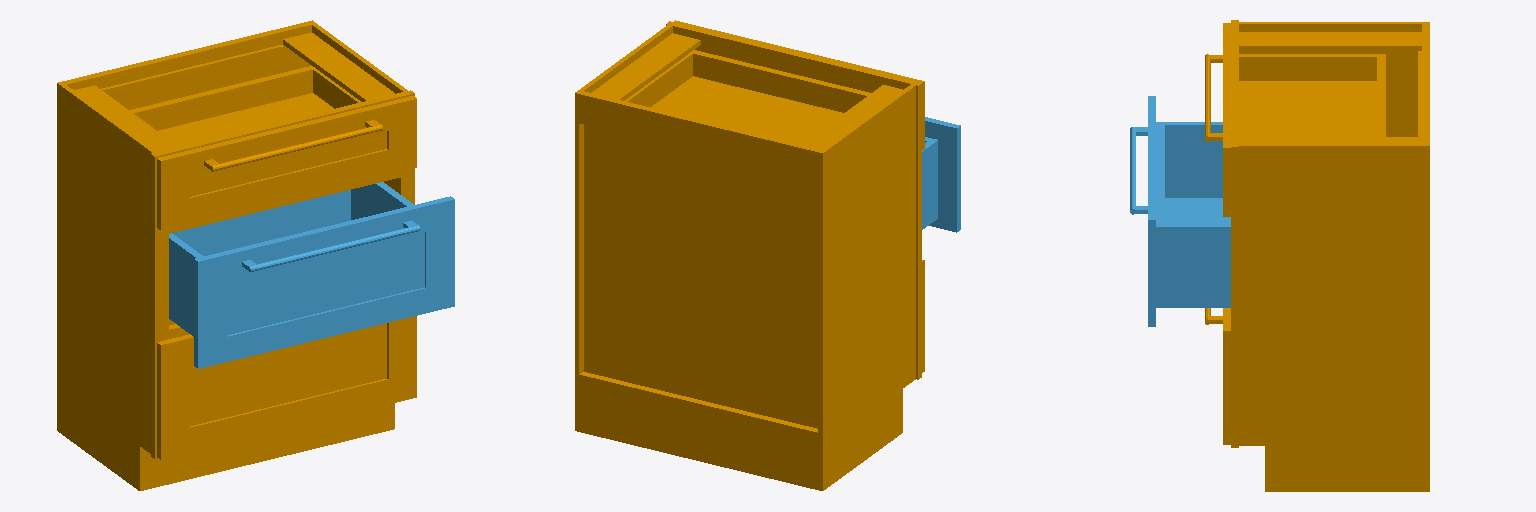
robot.urdf — storage_45135:
<?xml version="1.0"?>
<robot name="storage_45135">
  <link name="base_link">
    <inertial>
      <origin xyz="0 0 0" rpy="0 0 0"/>
      <mass value="1"/>
      <inertia ixx="0.001" ixy="0" ixz="0" iyy="0.001" iyz="0" izz="0.001"/>
    </inertial>
    <visual>
      <origin xyz="0 0 0" rpy="0 0 0"/>
      <geometry>
        <mesh filename="meshes/base_link.obj" scale="1 1 1"/>
      </geometry>
    </visual>
    <collision>
      <origin xyz="0 0 0" rpy="0 0 0"/>
      <geometry>
        <mesh filename="meshes/base_link.obj" scale="1 1 1"/>
      </geometry>
    </collision>
  </link>
  <link name="moving_link">
    <inertial>
      <origin xyz="0 0 0" rpy="0 0 0"/>
      <mass value="1"/>
      <inertia ixx="0.001" ixy="0" ixz="0" iyy="0.001" iyz="0" izz="0.001"/>
    </inertial>
    <visual>
      <origin xyz="0.0145976924 0.3823210001 -0.1355939233" rpy="0 0 0"/>
      <geometry>
        <mesh filename="meshes/moving_link.obj" scale="1 1 1"/>
      </geometry>
    </visual>
    <collision>
      <origin xyz="0.0145976924 0.3823210001 -0.1355939233" rpy="0 0 0"/>
      <geometry>
        <mesh filename="meshes/moving_link.obj" scale="1 1 1"/>
      </geometry>
    </collision>
  </link>
  <joint name="storage_45135_joint" type="prismatic">
    <parent link="base_link"/>
    <child link="moving_link"/>
    <origin xyz="-0.0145976924 -0.3823210001 0.1355939233" rpy="0 0 0"/>
    <axis xyz="0 -1 0"/>
    <limit lower="0" upper="0.3" effort="100" velocity="10"/>
  </joint>
</robot>

--- Facts derived from the render (not from the file) ---
The picture shows the robot from 3 angles, left to right: view 1: azimuth 30°, elevation 25°; view 2: azimuth 150°, elevation 25°; view 3: azimuth 270°, elevation 25°; orthographic projection.
Model storage_45135 with 2 links and 1 joints (1 prismatic), rooted at base_link, posed every joint at zero.
Visible links, largest first — view 1: base_link, moving_link; view 2: base_link, moving_link; view 3: base_link, moving_link.
Link boxes in pixels (x1,y1,x2,y2): base_link: (57,20,416,490); moving_link: (169,182,454,368); base_link: (575,20,924,490); moving_link: (922,117,960,232); base_link: (1205,20,1429,491); moving_link: (1130,96,1230,326).
Size in the robot's own frame: 1.2 by 1.21 by 1.54 metres.
Meshes: 2 distinct files referenced, 2 mesh visuals loaded (2 OBJ).
